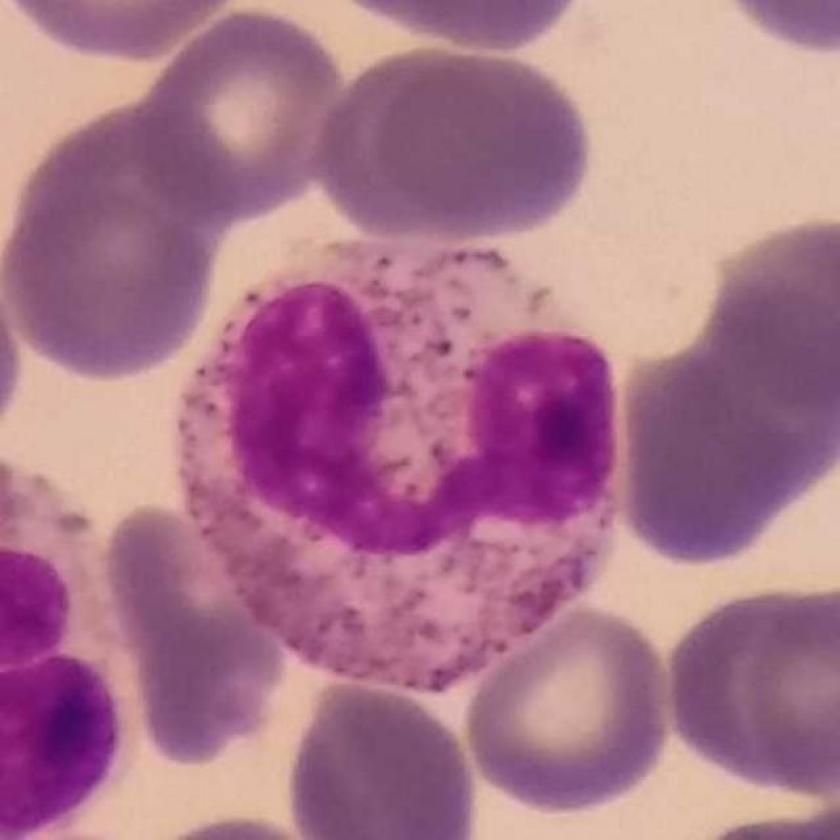eosinophil: (182, 217, 628, 700)
